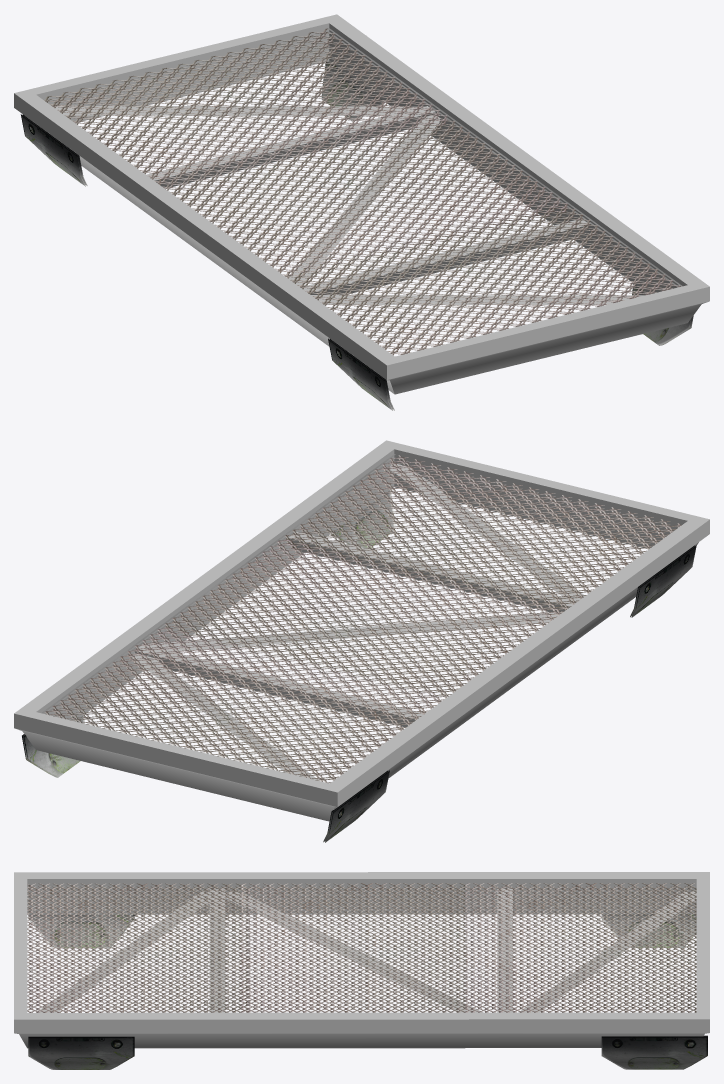
File: Floor_F_2'5qmts_30.fbx
3 views of the same model, one above another, from view 1: azimuth 30°, elevation 25°; view 2: azimuth 150°, elevation 25°; view 3: azimuth 270°, elevation 25° (orthographic). The views are drawn at different scales.
Parts seen in each view (by area): view 1: grid_, frame_, details_; view 2: grid_, frame_, details_; view 3: grid_, frame_, details_.
Part boxes in pixels (x1,y1,x2,y2): grid_: (44, 28, 682, 355); frame_: (14, 14, 709, 394); details_: (20, 61, 693, 410); grid_: (41, 454, 681, 783); frame_: (14, 440, 709, 821); details_: (22, 490, 696, 842); grid_: (27, 883, 696, 1012); frame_: (14, 872, 709, 1048); details_: (28, 914, 707, 1069).
Size of the model in its own units: 251 by 49.97 by 500.
